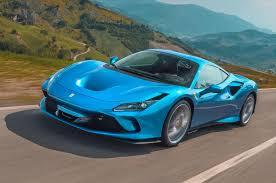car: (35, 33, 260, 149)
